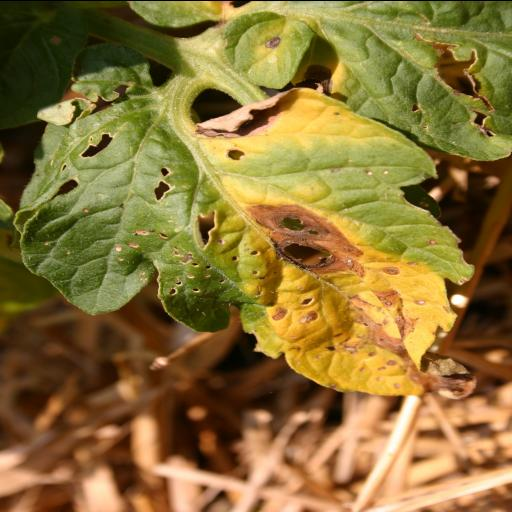Early Blight: (18, 86, 470, 398)
